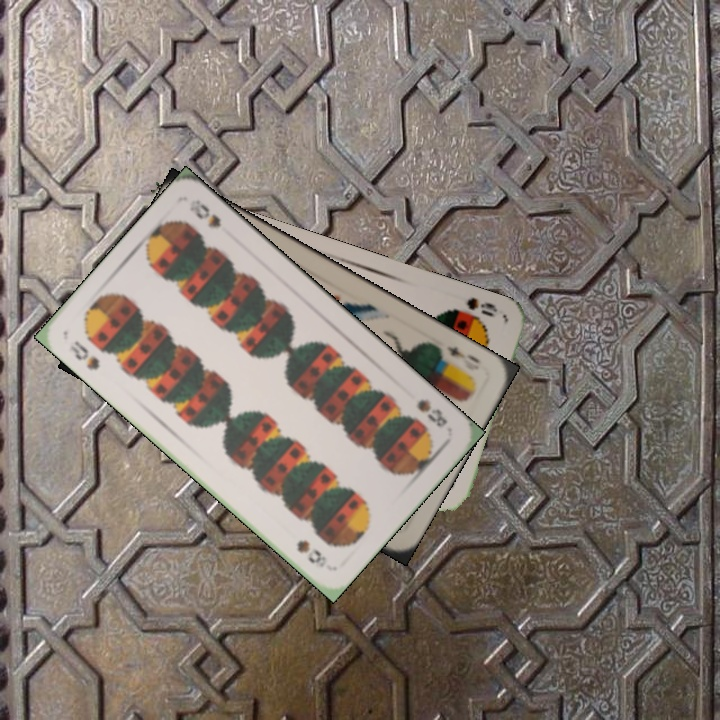EO: (433, 342, 483, 367)
S8: (65, 336, 103, 373), (412, 395, 450, 431)
SO: (462, 293, 500, 320)
